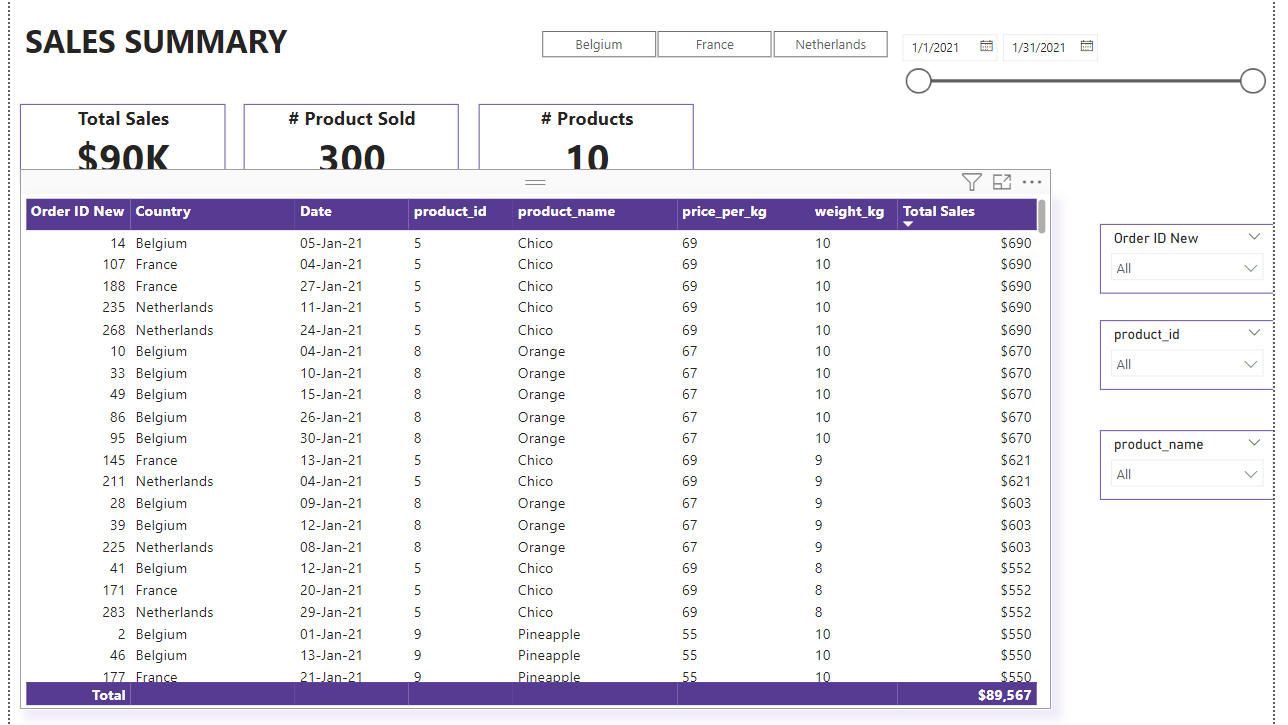

Layout of this report page (visuals, bound fields, positions):
{"tool":"powerbi","page":{"name":" Page 2","canvas":[1280,720],"ordinal":1},"visuals":[{"type":"textbox","box":[10,0,334.2,59.7],"z":0},{"type":"slicer","fields":{"Values":["Sales.Country"]},"box":[512.7,10.1,400,40.5],"z":1000},{"type":"card","title":"Total Sales","fields":{"Values":["Sales.Total Sales"]},"box":[10.1,90.9,207.8,80.8],"z":2000},{"type":"card","title":"# Product Sold","fields":{"Values":["Sales.Count_Order"]},"box":[236.6,90.9,217.9,80.8],"z":3000},{"type":"card","title":"# Products","fields":{"Values":["Sales.Count_Product"]},"box":[474.7,90.9,217.9,80.8],"z":4000},{"type":"tableEx","fields":{"Values":["Sales.Order ID New","Sales.Country","Sales.date","Sales.product_id","Sales.product_name","Sales.price_per_kg","Sales.weight_kg","Sales.Total Sales"]},"box":[10.1,181.8,1044.6,522.3],"z":5000},{"type":"slicer","fields":{"Values":["Sales.date"]},"box":[891.6,10.1,388.1,80.8],"z":6000},{"type":"slicer","fields":{"Values":["Sales.Order ID New"]},"box":[1103.7,212.1,176,70.7],"z":6001},{"type":"slicer","fields":{"Values":["Sales.product_id"]},"box":[1103.7,310.2,176,70.7],"z":6002},{"type":"slicer","fields":{"Values":["Sales.product_name"]},"box":[1103.7,421.3,176,70.7],"z":6003}]}

Visuals, with their boxes in screenshot pixels (x1, y1, x2, y2), scaled from the page's 1280x720 canvas onto the 1288x725 screenshot:
textbox: box=[10, 0, 346, 60]
slicer - Sales.Country: box=[516, 10, 918, 51]
"Total Sales" card: box=[10, 92, 219, 173]
"# Product Sold" card: box=[238, 92, 457, 173]
"# Products" card: box=[478, 92, 697, 173]
tableEx - Sales.Order ID New x Sales.Country: box=[10, 183, 1061, 709]
slicer - Sales.date: box=[897, 10, 1287, 92]
slicer - Sales.Order ID New: box=[1111, 214, 1287, 285]
slicer - Sales.product_id: box=[1111, 312, 1287, 384]
slicer - Sales.product_name: box=[1111, 424, 1287, 495]
